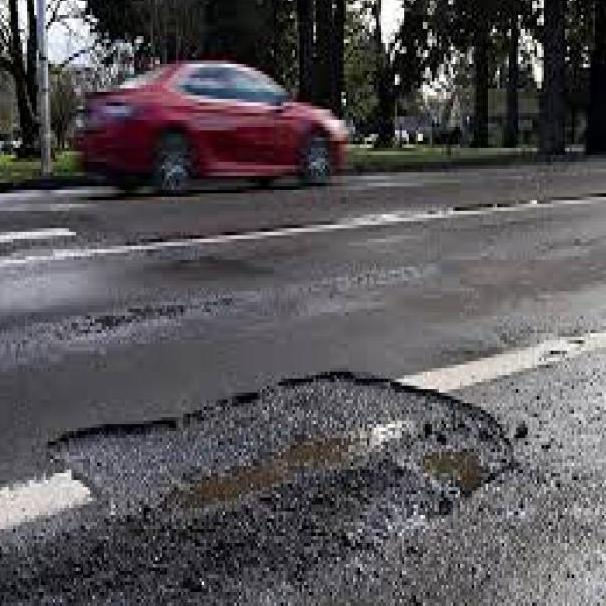pothole: (0, 359, 506, 606)
